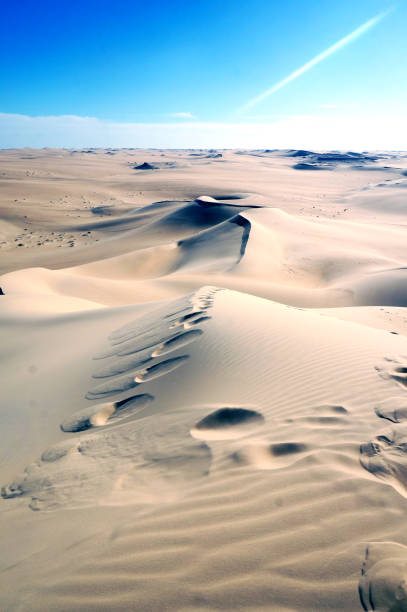human_foot_print: (2, 288, 216, 509), (1, 409, 211, 510), (87, 287, 216, 398), (191, 403, 351, 469), (232, 403, 350, 469), (191, 406, 308, 468), (93, 329, 202, 378), (360, 392, 406, 496), (86, 355, 188, 398), (61, 393, 153, 431), (360, 425, 406, 496), (359, 542, 406, 611), (191, 407, 264, 439), (232, 442, 309, 469), (284, 403, 348, 427), (135, 355, 188, 383), (152, 329, 202, 356), (376, 356, 406, 388), (374, 395, 406, 422), (170, 311, 209, 328)
